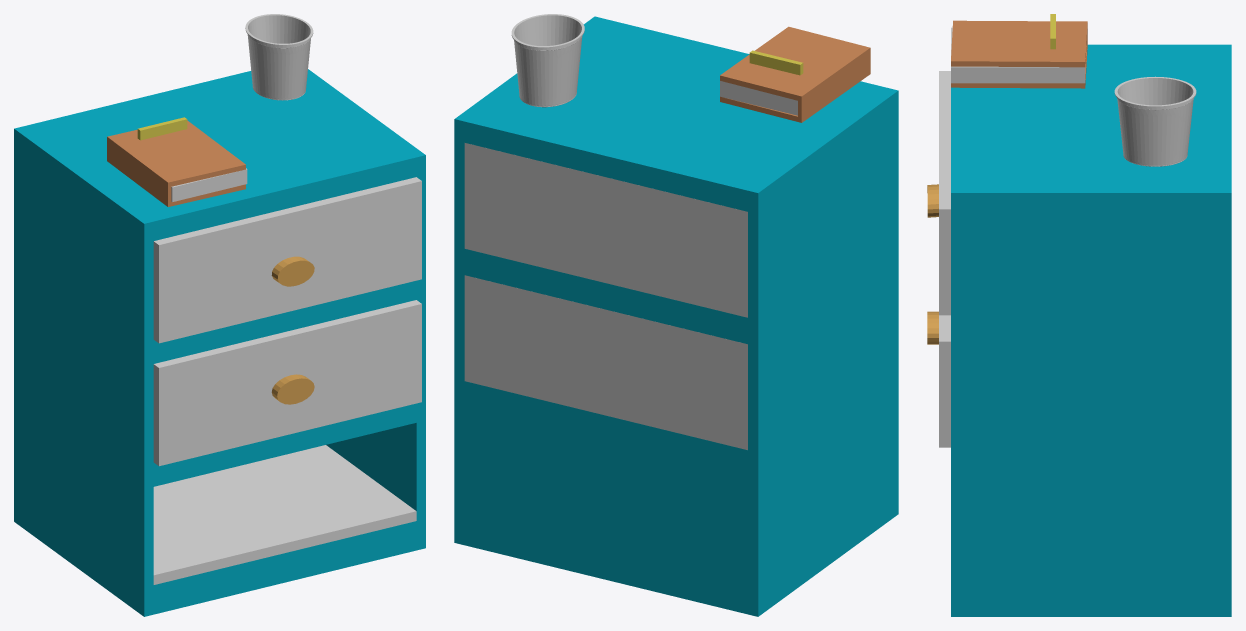
The model's file is side Table.glb.
3 views of the same model, side by side, from view 1: azimuth 30°, elevation 25°; view 2: azimuth 150°, elevation 25°; view 3: azimuth 270°, elevation 25° (orthographic). The views are drawn at different scales.
Visible parts, largest first — view 1: Mesh_Mesh_head_geo.001_lambert2SG.001; view 2: Mesh_Mesh_head_geo.001_lambert2SG.001; view 3: Mesh_Mesh_head_geo.001_lambert2SG.001.
Boxes of the visible parts, left/top/right/bottom form: Mesh_Mesh_head_geo.001_lambert2SG.001: left=14, top=14, right=425, bottom=616; Mesh_Mesh_head_geo.001_lambert2SG.001: left=454, top=14, right=898, bottom=616; Mesh_Mesh_head_geo.001_lambert2SG.001: left=927, top=14, right=1231, bottom=616.
Bounding box in the file's own units: 60 × 94 × 52.
